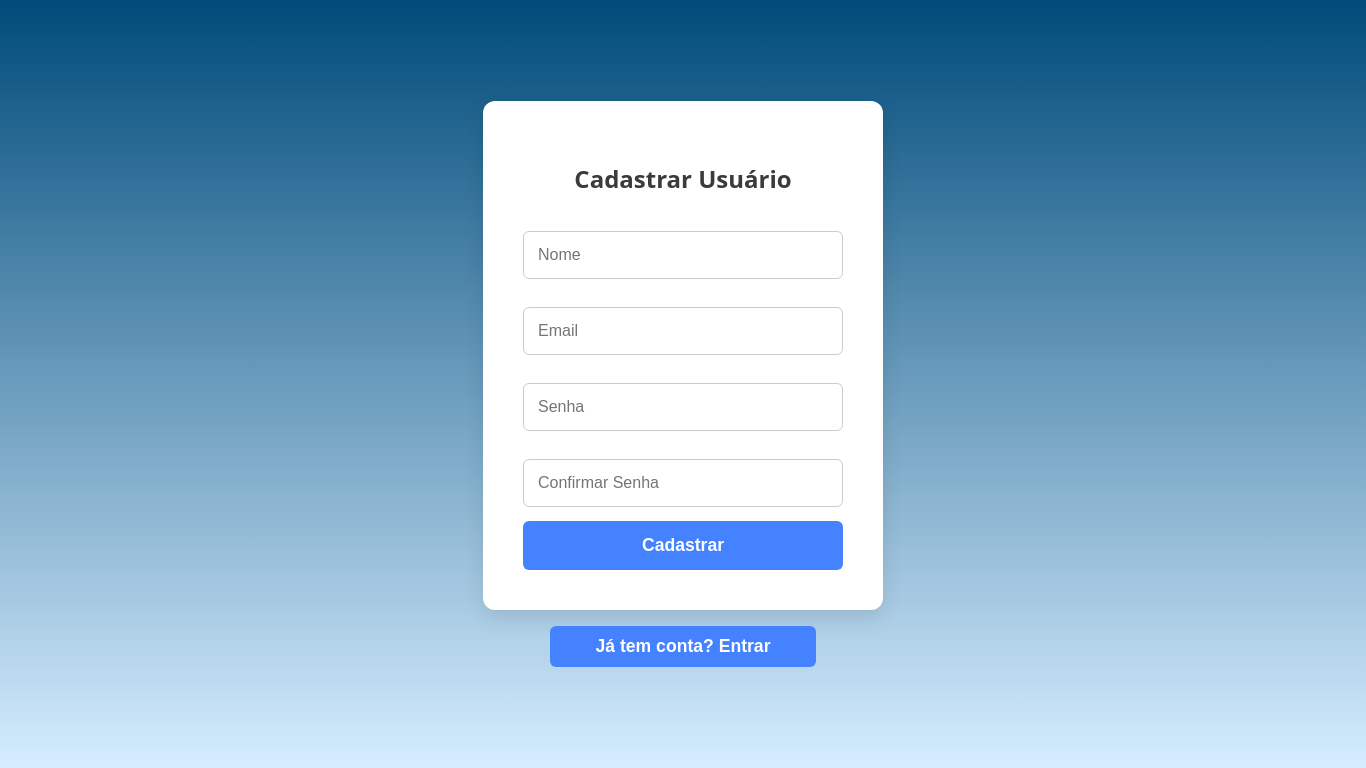
Test case: SignupPage Component › validates invalid email
The width and height of the screenshot is (1366, 768).
Type "John Doe" into the field with placeholder "Nome" at (683, 255), box [523,231,843,279]
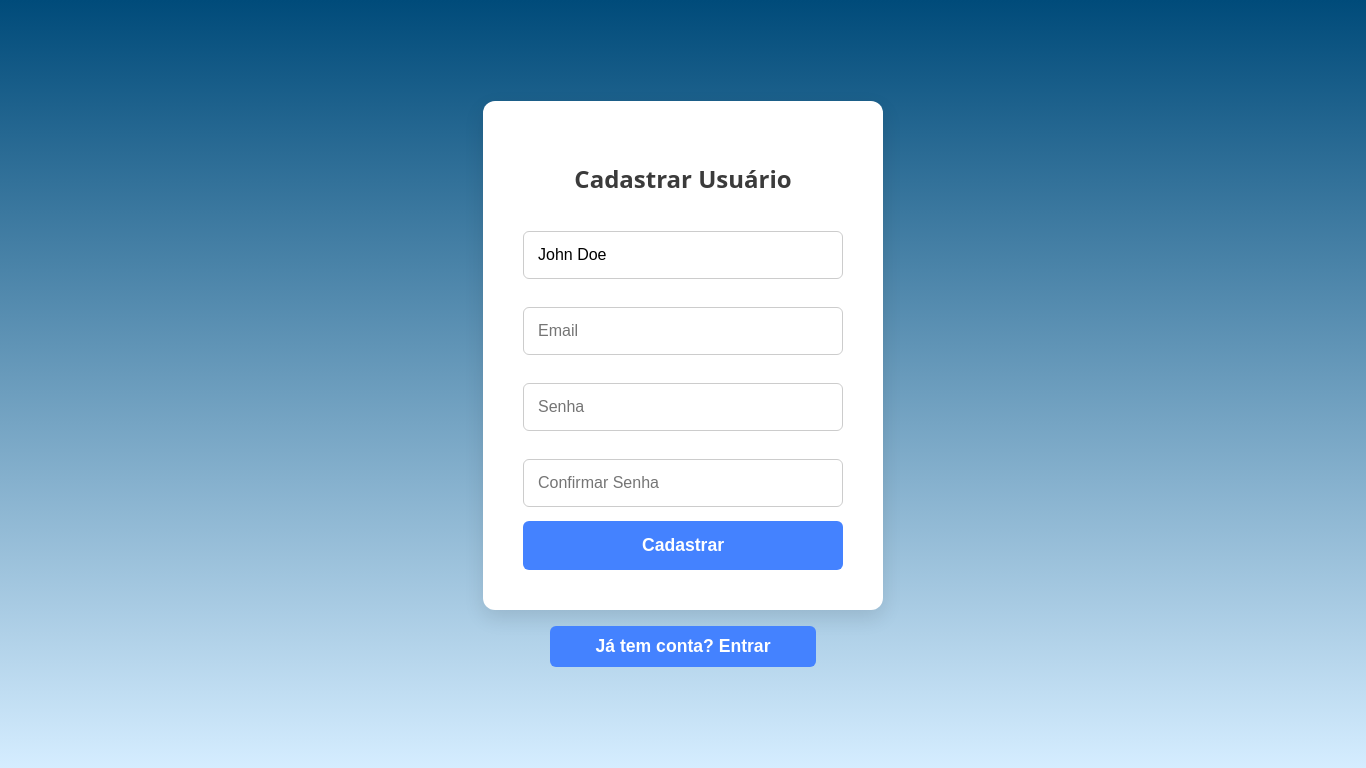
Type "invalid-email" into the field with placeholder "Email" at (683, 331), box [523,307,843,355]
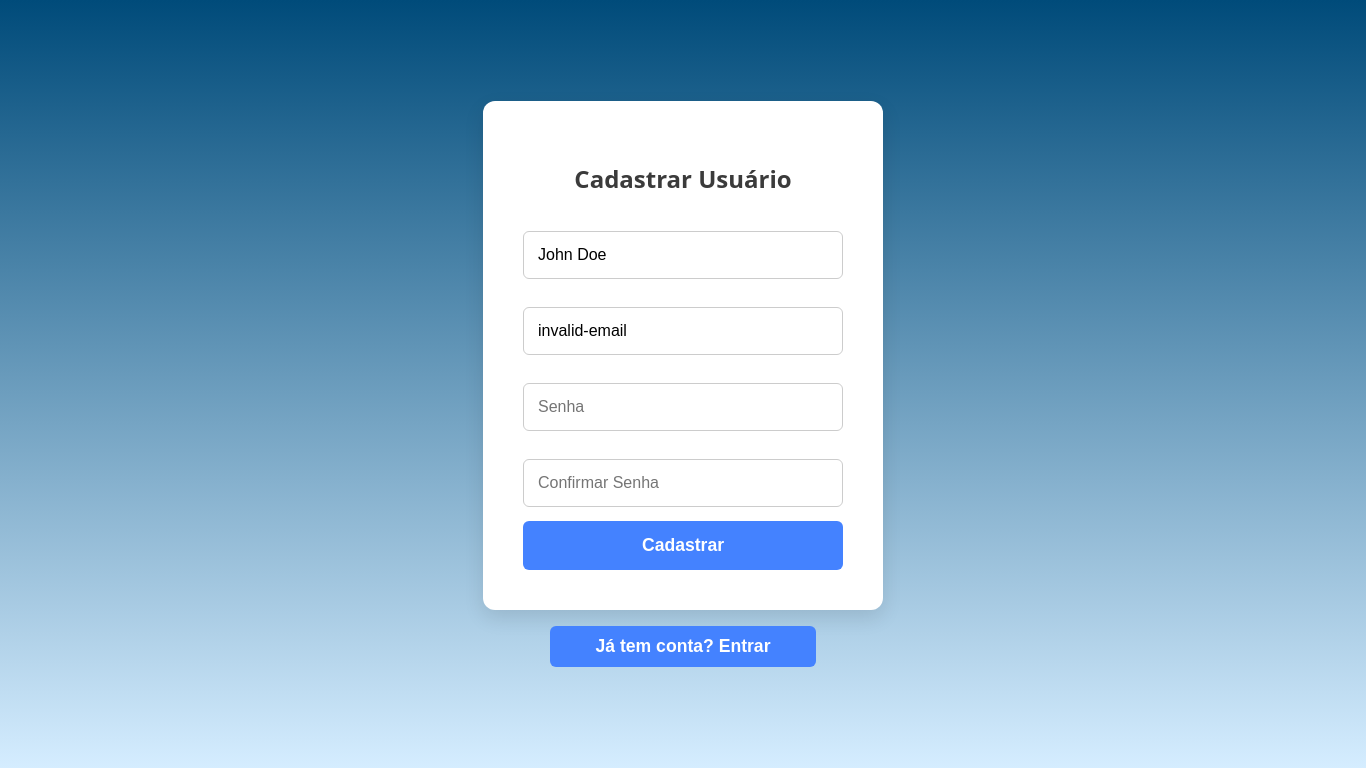
Submit the form, box [483,101,883,610]
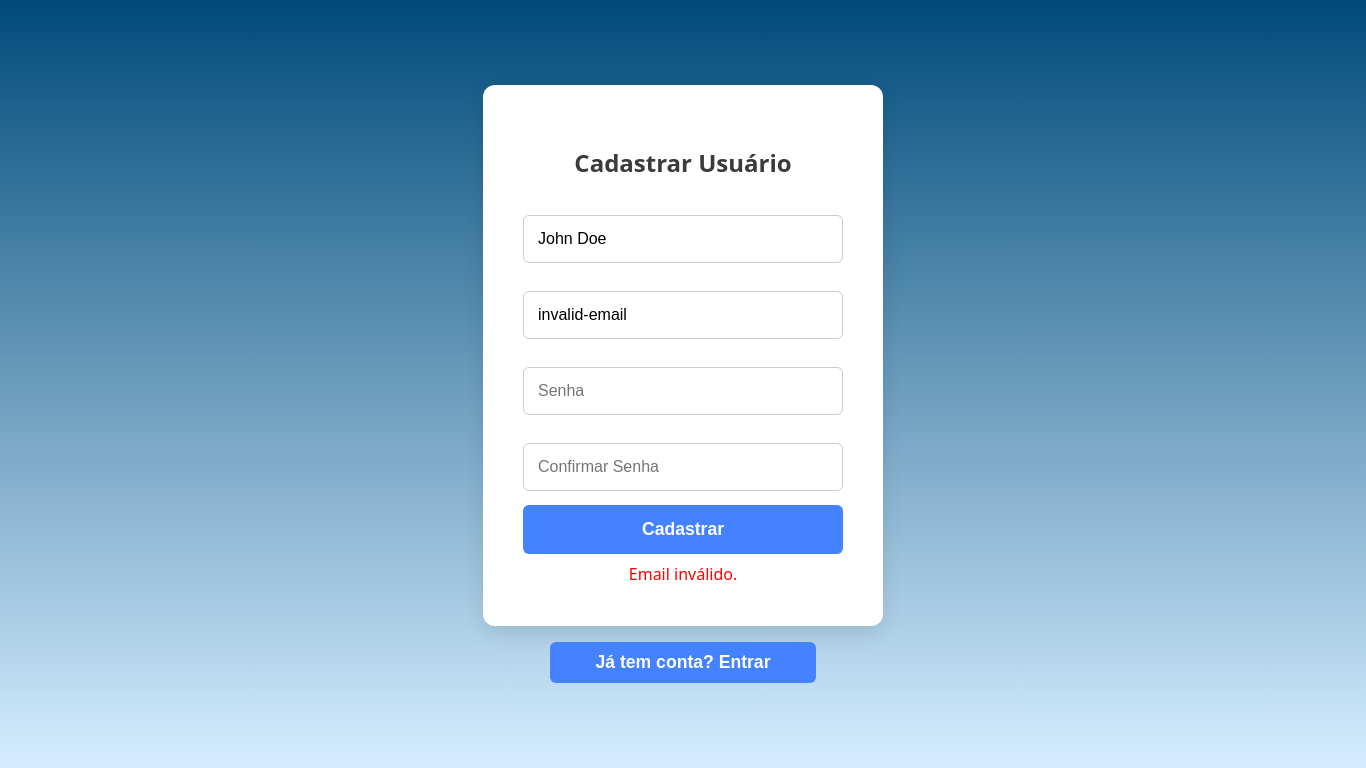
Expected: the text "Email inválido." is shown, [629,563,737,585]
